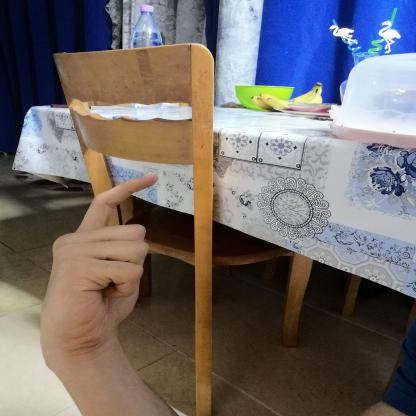RAA: (29, 166, 171, 368)
